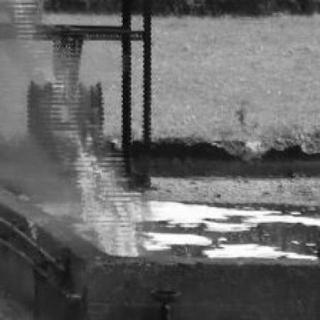Smoke: (7, 126, 61, 210)
